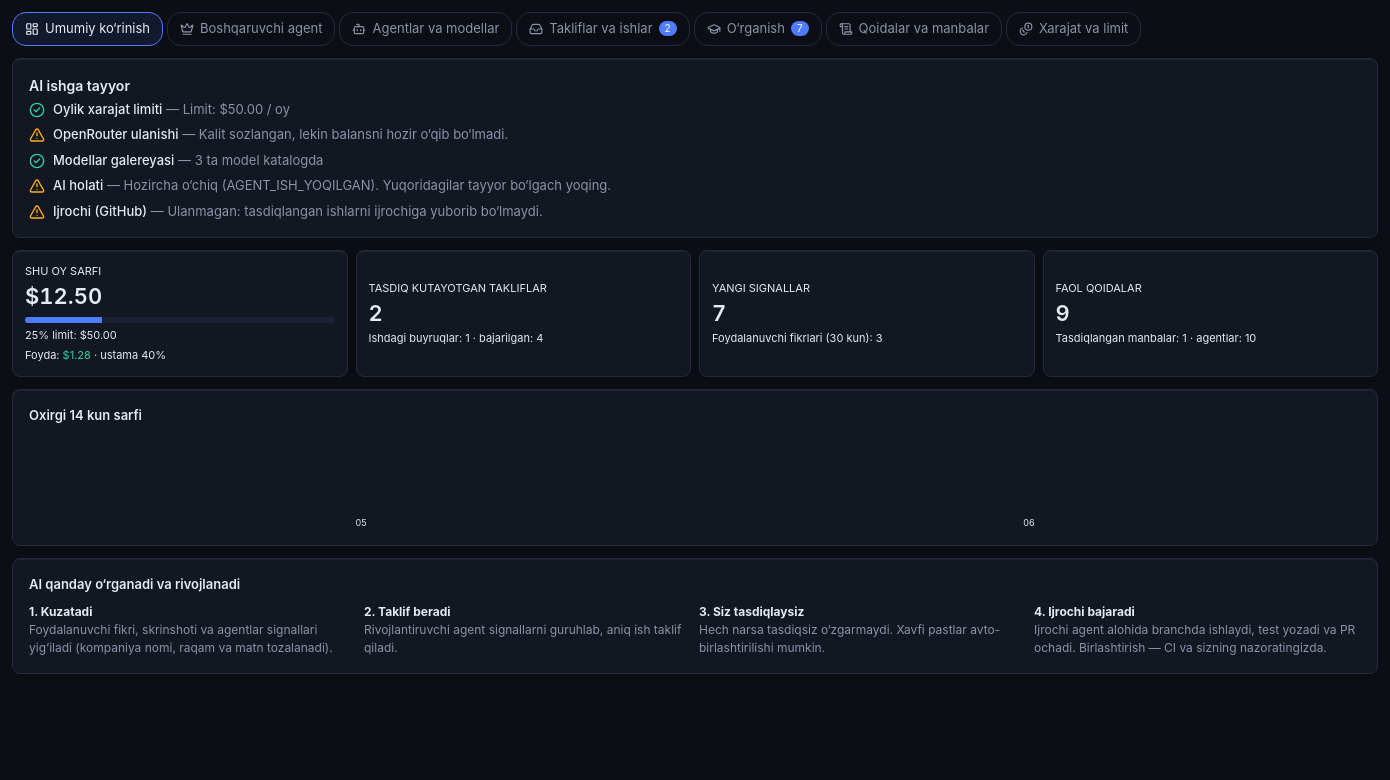
Test: ModelTanlagich — ishga qarab tavsiya va ogohlantirish › tavsiya belgisi, moslik nishoni va talab; joriy model kuchsiz bo‘lsa doimiy ogohlantirish ko‘rinadi
Step 1. Click the button "Agentlar va modellar" → (426, 29), box [340,12,512,46]
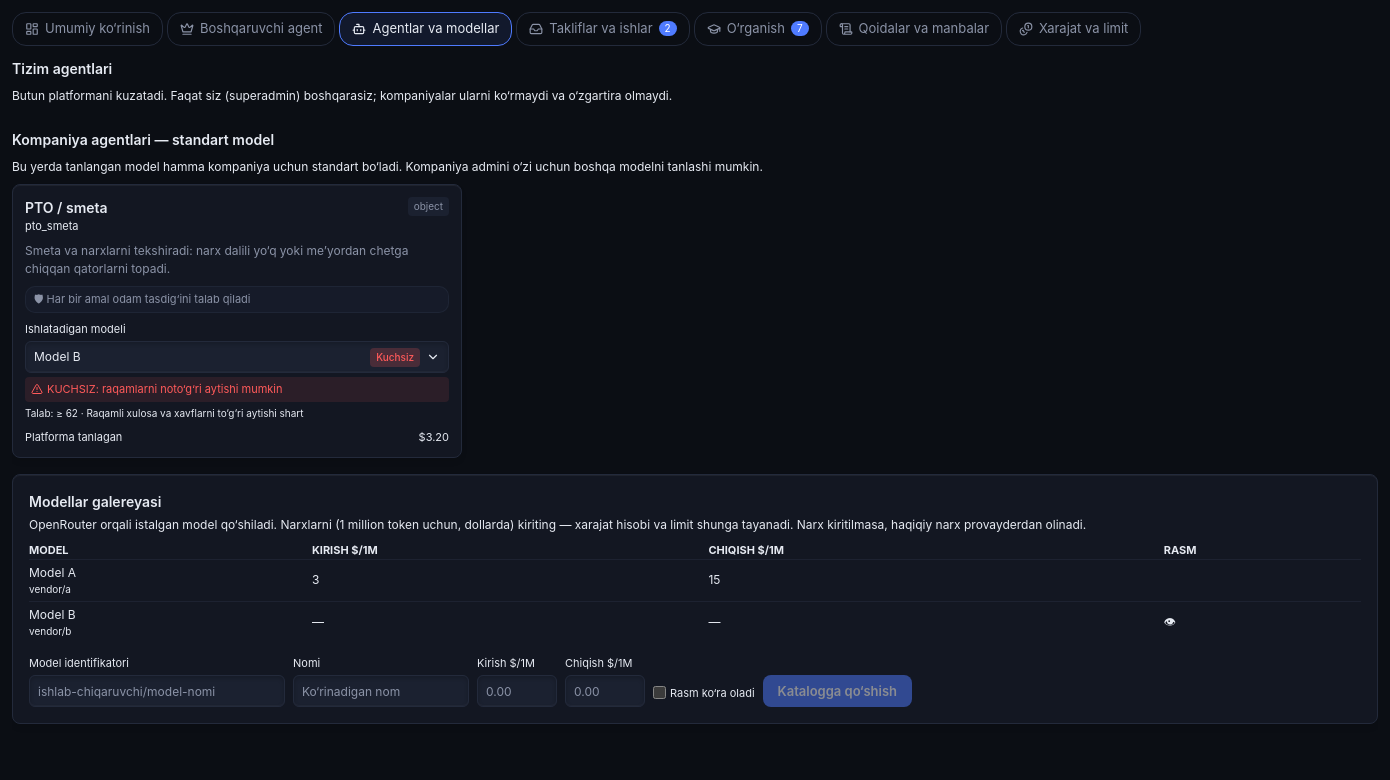
Result: the message shows "KUCHSIZ" at [47,382,282,396]
Step 2. Click the button with aria-label "Model — PTO" → (57, 356), box [25,341,449,373]
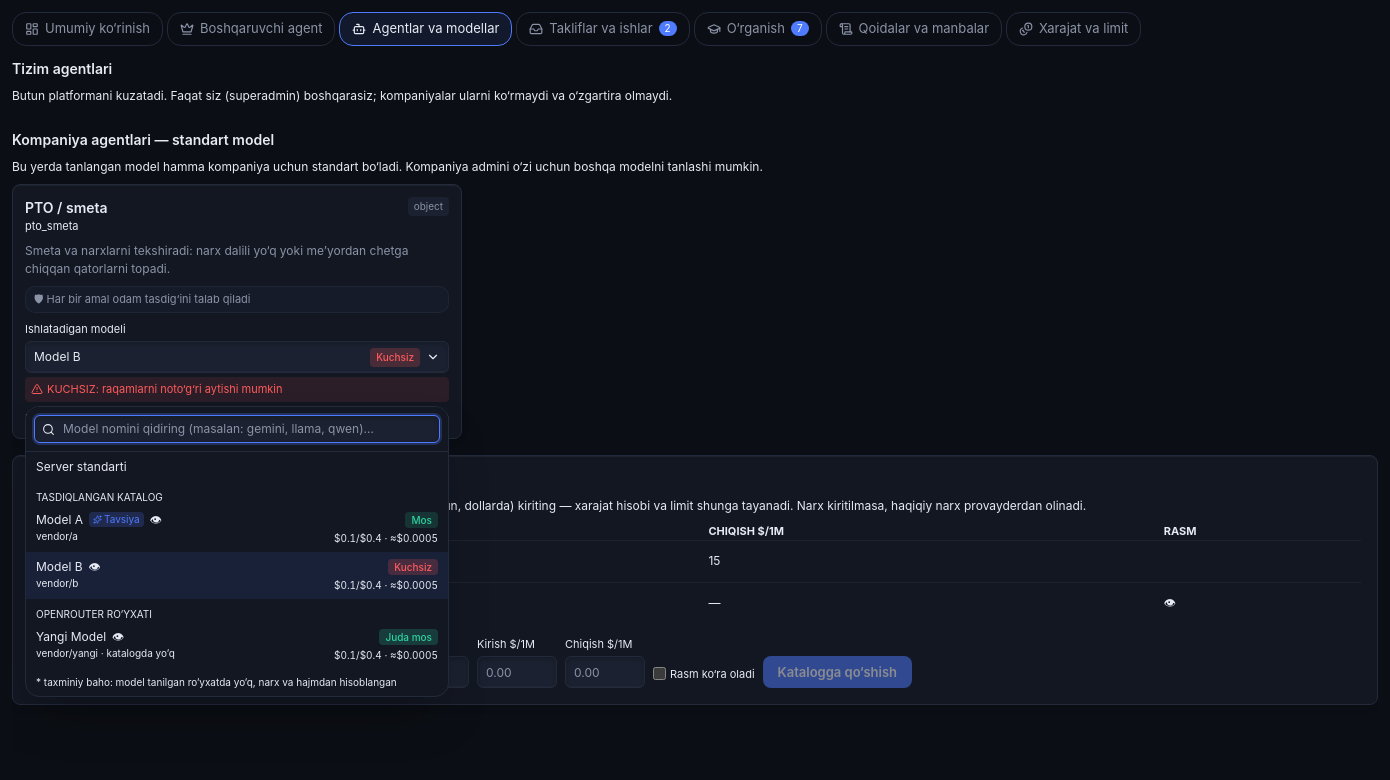
Result: the text "Tavsiya" is shown at [89,512,144,527]
